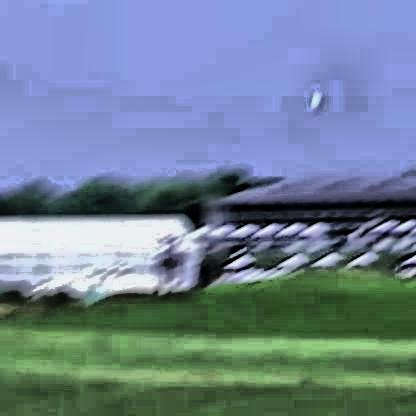golfball: (306, 82, 322, 106)
